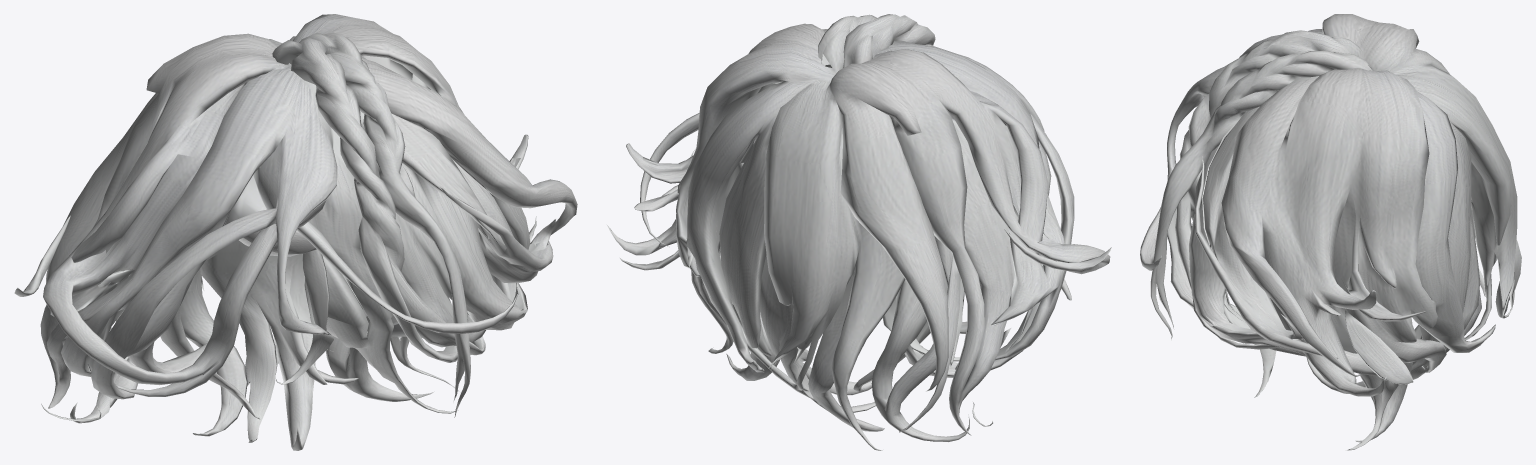
Rendered from hair-5.glb.
3 renders of one model, left to right at view 1: azimuth 30°, elevation 25°; view 2: azimuth 150°, elevation 25°; view 3: azimuth 270°, elevation 25°, orthographic. The views are drawn at different scales.
Bounding box in the file's own units: 0.9487 × 0.6938 × 0.6611.
1 material, 1 textured.
